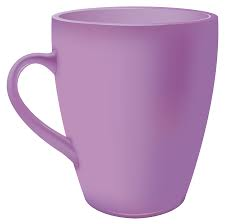cup: (6, 2, 221, 224)
